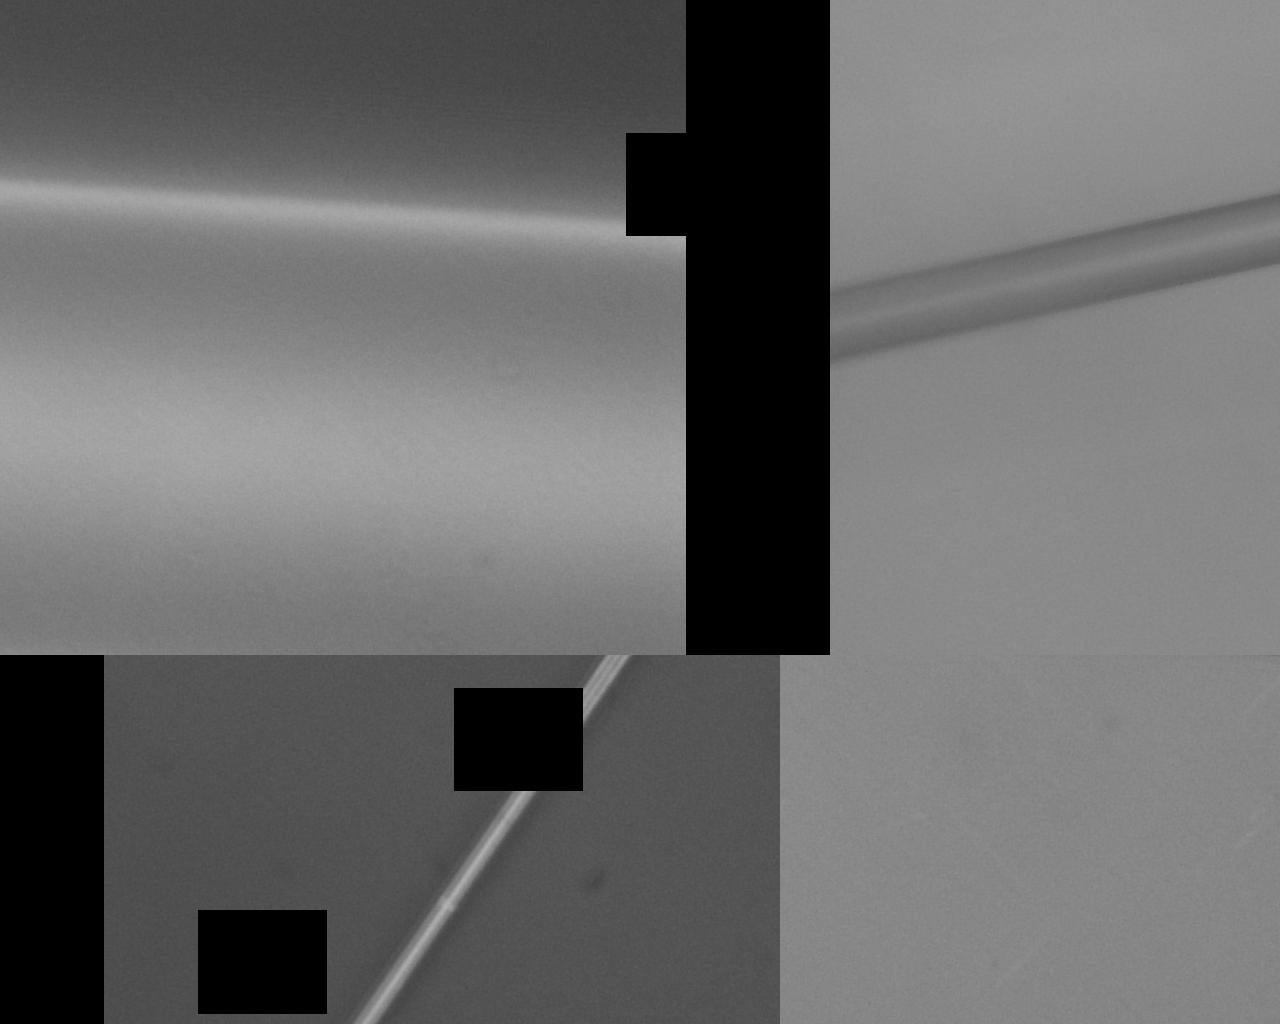fiber: (942, 563, 1042, 1024), (1017, 0, 1070, 563)
